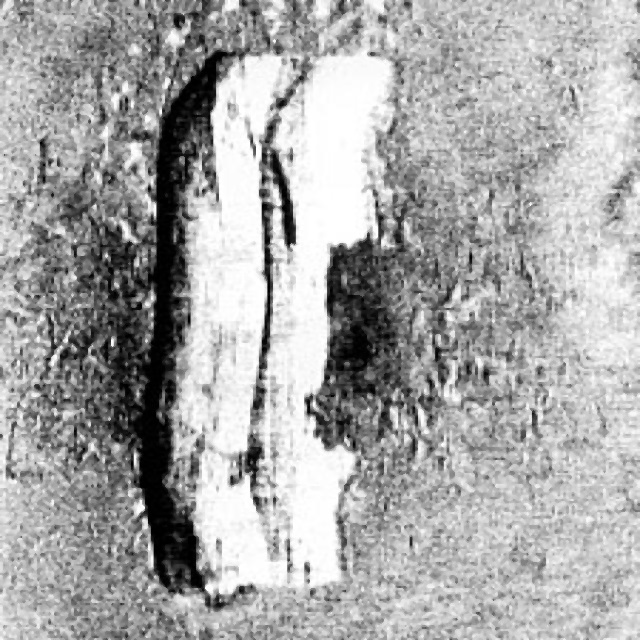Ship: (143, 34, 412, 614)
